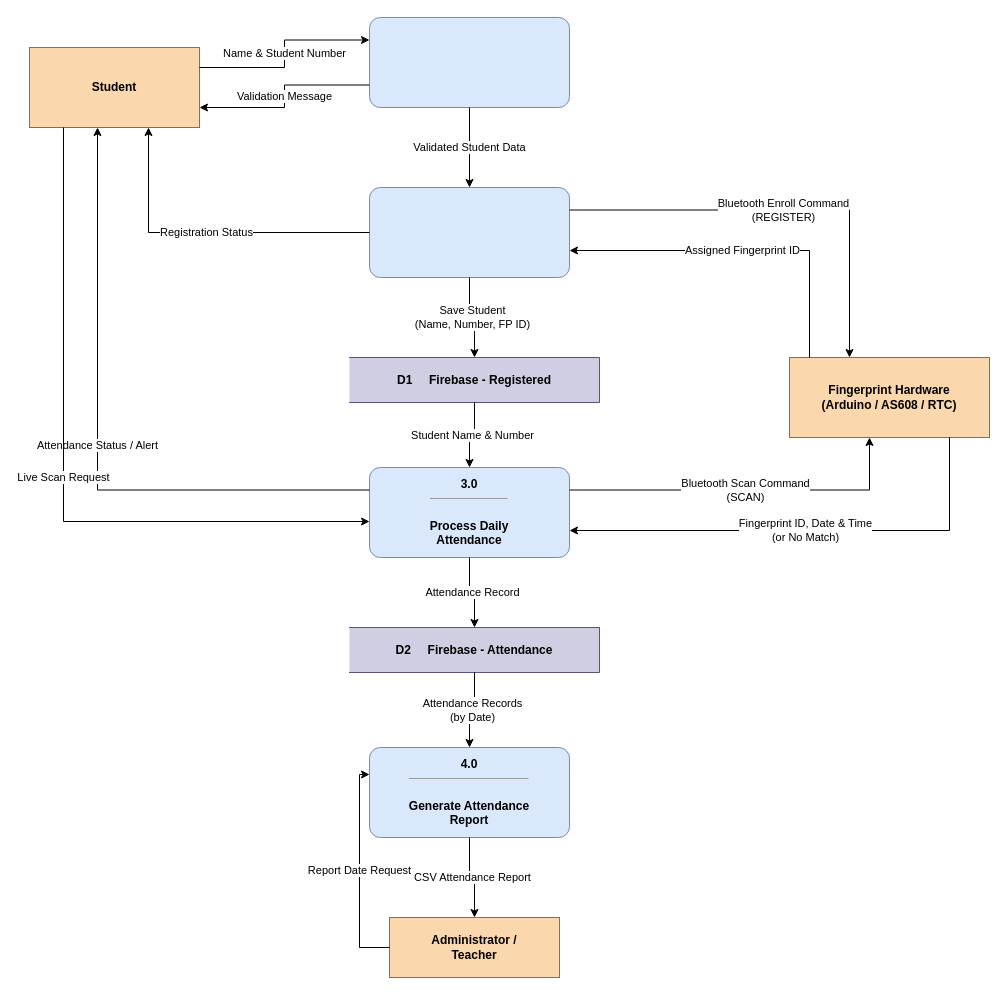
The diagram is 1007 pixels wide and 995 high, and some of its shapes have lost their labels. The centre of each missing label's shape, as x and y in pixels:
1.0 Register & Validate Student Info: the point at 469,62
2.0 Enroll Biometric Fingerprint: the point at 469,232
